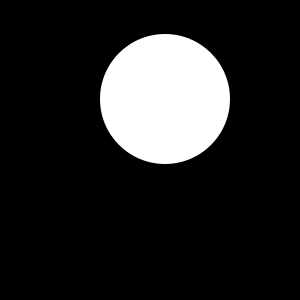rectangle: (100, 34, 230, 164)
